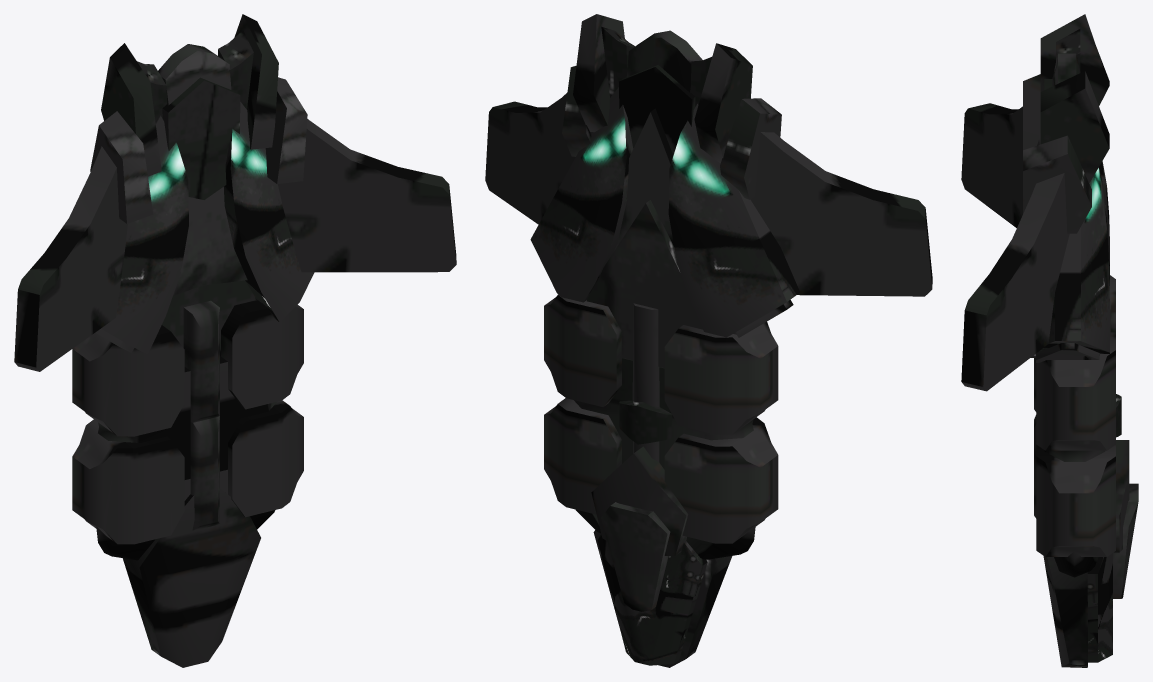
The model's file is ship20g.fbx.
The picture shows the model from 3 angles, left to right: view 1: azimuth 30°, elevation 25°; view 2: azimuth 150°, elevation 25°; view 3: azimuth 270°, elevation 25°; orthographic projection. The views are drawn at different scales.
Parts seen in each view (by area): view 1: ship20g; view 2: ship20g; view 3: ship20g.
Part boxes in pixels (bbox=[...]): ship20g: bbox=[14, 14, 456, 667]; ship20g: bbox=[485, 14, 932, 667]; ship20g: bbox=[961, 14, 1138, 667].
Size of the model in its own units: 9741 by 13222 by 3431.
1 material, 1 textured.
